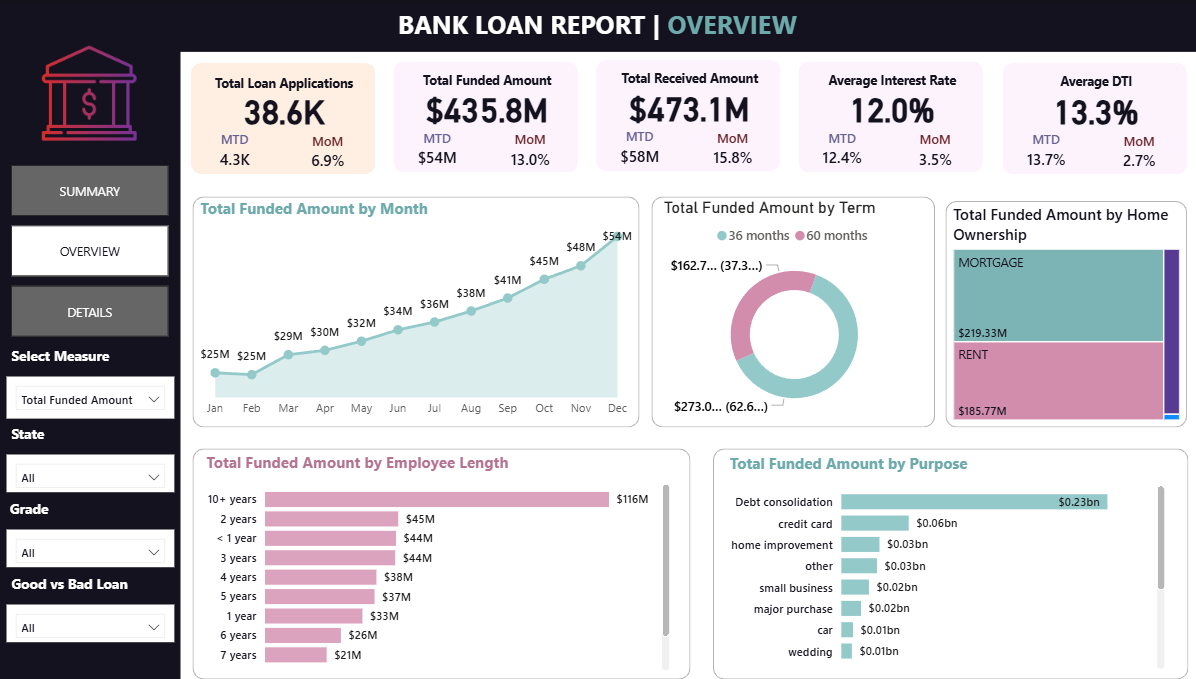

This screenshot's page, from the dashboard's own definition file:
{"tool":"powerbi","page":{"name":"OVERVIEW","canvas":[1280,720],"ordinal":1},"visuals":[{"type":"shape","box":[9.5,0,1270,55],"z":0},{"type":"shape","box":[643.1,63.6,195.6,117.7],"z":0,"group":"g3"},{"type":"shape","box":[428.1,65.2,195.6,117.7],"z":0,"group":"g2"},{"type":"shape","box":[858,65.2,195.6,117.7],"z":0,"group":"g4"},{"type":"shape","box":[213.1,66.8,195.6,117.7],"z":0,"group":"g1"},{"type":"shape","box":[1073,66.8,195.6,117.7],"z":0,"group":"g5"},{"type":"card","fields":{"Values":["Bank_loan_data.Total Amount Received"]},"box":[644.7,87.5,194.1,49.3],"z":1000,"group":"g3"},{"type":"card","fields":{"Values":["Bank_loan_data.Total Funded Amount"]},"box":[429.7,89.1,194.1,49.3],"z":1000,"group":"g2"},{"type":"card","fields":{"Values":["Bank_loan_data.Avg Interest Rate"]},"box":[859.6,89.1,194.1,49.3],"z":1000,"group":"g4"},{"type":"card","fields":{"Values":["Bank_loan_data.Total Loan Applications"]},"box":[214.7,90.7,194.1,49.3],"z":1000,"group":"g1"},{"type":"card","fields":{"Values":["Bank_loan_data.Average DTI"]},"box":[1074.6,90.7,194.1,49.3],"z":1000,"group":"g5"},{"type":"shape","box":[214.7,208.4,474,245],"z":1000},{"type":"shape","box":[9.5,44.5,192.5,676],"z":2000},{"type":"textbox","box":[644.7,68.4,195.6,33.4],"z":2000,"group":"g3"},{"type":"textbox","box":[429.7,70,195.6,33.4],"z":2000,"group":"g2"},{"type":"textbox","box":[859.6,70,195.6,33.4],"z":2000,"group":"g4"},{"type":"textbox","box":[1074.6,71.6,195.6,33.4],"z":2000,"group":"g5"},{"type":"textbox","box":[214.5,73.5,194.1,31.8],"z":2000,"group":"g1"},{"type":"textbox","box":[300.6,1.6,687.1,50.9],"z":3000},{"type":"card","title":"MTD","fields":{"Values":["Bank_loan_data.MTD Total Received Amount"]},"box":[657.4,135.2,63.6,44.5],"z":3000,"group":"g3"},{"type":"card","title":"MTD","fields":{"Values":["Bank_loan_data.MTD Funded Amount"]},"box":[442.4,136.8,63.6,44.5],"z":3000,"group":"g2"},{"type":"card","title":"MTD","fields":{"Values":["Bank_loan_data.MTD Avg Int Rate"]},"box":[872.3,136.8,63.6,44.5],"z":3000,"group":"g4"},{"type":"card","title":"MTD","fields":{"Values":["Bank_loan_data.MTD Loan Applications"]},"box":[227.4,138.4,63.6,44.5],"z":3000,"group":"g1"},{"type":"card","title":"MTD","fields":{"Values":["Bank_loan_data.MTD Avg DTI"]},"box":[1087.3,138.4,63.6,44.5],"z":3000,"group":"g5"},{"type":"group","id":"g1","title":"Group 1","box":[213.1,66.8,195.6,117.7],"z":4000},{"type":"card","title":"MoM","fields":{"Values":["Bank_loan_data.MoM Total Received Amount"]},"box":[756,136.8,63.6,44.5],"z":4000,"group":"g3"},{"type":"card","title":"MoM","fields":{"Values":["Bank_loan_data.MoM Total Funded Amount"]},"box":[541,138.4,63.6,44.5],"z":4000,"group":"g2"},{"type":"card","title":"MoM","fields":{"Values":["Bank_loan_data.MoM Avg int Rate"]},"box":[970.9,138.4,63.6,44.5],"z":4000,"group":"g4"},{"type":"card","title":"MoM","fields":{"Values":["Bank_loan_data.MoM Loan Application"]},"box":[326,140,63.6,44.5],"z":4000,"group":"g1"},{"type":"card","title":"MoM","fields":{"Values":["Bank_loan_data.MoM Avg DTI"]},"box":[1185.9,140,63.6,44.5],"z":4000,"group":"g5"},{"type":"group","id":"g2","title":"Group 1","box":[428.1,65.2,197.2,117.7],"z":5000},{"type":"group","id":"g3","title":"Group 1","box":[643.1,63.6,197.2,117.7],"z":6000},{"type":"group","id":"g4","title":"Group 1","box":[858,65.2,197.2,117.7],"z":7000},{"type":"group","id":"g5","title":"Group 1","box":[1073,66.8,197.2,117.7],"z":8000},{"type":"slicer","fields":{"Values":["Bank_loan_data.address_state"]},"box":[17.5,482,178.1,39.8],"z":9000},{"type":"textbox","box":[17,443.8,90.7,36.6],"z":10000},{"type":"slicer","fields":{"Values":["Bank_loan_data.grade"]},"box":[17.5,561.5,178.1,39.8],"z":11000},{"type":"textbox","box":[15.9,523.3,65.2,36.6],"z":12000},{"type":"slicer","fields":{"Values":["Bank_loan_data.Good vs Bad Loan"]},"box":[17.5,641,178.1,39.8],"z":13000},{"type":"shape","box":[701.5,208.4,300.6,245],"z":14000},{"type":"textbox","box":[17.5,602.8,176.6,36.6],"z":15000},{"type":"areaChart","fields":{"Y":["Bank_loan_data.Total Amount Received"],"Category":["Date Table.Month"]},"box":[217.9,210,467.6,240.2],"z":16000},{"type":"slicer","fields":{"Values":["Select Measure.Select Measure"]},"box":[17,399.2,178.1,44.5],"z":17000},{"type":"textbox","box":[17,361.1,178.1,36.6],"z":18000},{"type":"shape","box":[214.7,475.6,528.1,245],"z":19000},{"type":"shape","box":[1013.2,213.1,256.1,240.2],"z":20000},{"type":"donutChart","fields":{"Y":["Bank_loan_data.Total Amount Received"],"Category":["Bank_loan_data.term"]},"box":[709.4,210,286.3,240.2],"z":21000},{"type":"barChart","fields":{"Y":["Bank_loan_data.Total Amount Received"],"Category":["Bank_loan_data.emp_length"]},"box":[224.3,478.8,501,237],"z":22000},{"type":"shape","box":[766.7,475.6,504.2,245],"z":23000},{"type":"barChart","fields":{"Y":["Bank_loan_data.Total Amount Received"],"Category":["Bank_loan_data.purpose"]},"box":[779.4,480.4,470.8,233.8],"z":24000},{"type":"treemap","fields":{"Values":["Bank_loan_data.Total Amount Received"],"Group":["Bank_loan_data.home_ownership"]},"box":[1016.4,216.3,249.7,233.8],"z":25000},{"type":"pageNavigator","box":[22.3,175,167,182.9],"z":26000},{"type":"image","box":[38.2,39.8,133.6,117.7],"z":27000}]}

Visuals, with their boxes in screenshot pixels (x1, y1, x2, y2), scaled from the page's 1280x720 canvas onto the 1196x679 screenshot:
shape: Rect(9, 0, 1195, 52)
shape: Rect(601, 60, 784, 171)
shape: Rect(400, 61, 583, 172)
shape: Rect(802, 61, 984, 172)
shape: Rect(199, 63, 382, 174)
shape: Rect(1003, 63, 1185, 174)
card - Bank_loan_data.Total Amount Received: Rect(602, 83, 784, 129)
card - Bank_loan_data.Total Funded Amount: Rect(402, 84, 583, 131)
card - Bank_loan_data.Avg Interest Rate: Rect(803, 84, 985, 131)
card - Bank_loan_data.Total Loan Applications: Rect(201, 86, 382, 132)
card - Bank_loan_data.Average DTI: Rect(1004, 86, 1185, 132)
shape: Rect(201, 197, 644, 428)
shape: Rect(9, 42, 189, 678)
textbox: Rect(602, 65, 785, 96)
textbox: Rect(402, 66, 584, 98)
textbox: Rect(803, 66, 986, 98)
textbox: Rect(1004, 68, 1187, 99)
textbox: Rect(200, 69, 382, 99)
textbox: Rect(281, 2, 923, 50)
"MTD" card: Rect(614, 128, 674, 169)
"MTD" card: Rect(413, 129, 473, 171)
"MTD" card: Rect(815, 129, 874, 171)
"MTD" card: Rect(212, 131, 272, 172)
"MTD" card: Rect(1016, 131, 1075, 172)
"Group 1" group: Rect(199, 63, 382, 174)
"MoM" card: Rect(706, 129, 766, 171)
"MoM" card: Rect(505, 131, 565, 172)
"MoM" card: Rect(907, 131, 967, 172)
"MoM" card: Rect(305, 132, 364, 174)
"MoM" card: Rect(1108, 132, 1168, 174)
"Group 1" group: Rect(400, 61, 584, 172)
"Group 1" group: Rect(601, 60, 785, 171)
"Group 1" group: Rect(802, 61, 986, 172)
"Group 1" group: Rect(1003, 63, 1187, 174)
slicer - Bank_loan_data.address_state: Rect(16, 455, 183, 492)
textbox: Rect(16, 419, 101, 453)
slicer - Bank_loan_data.grade: Rect(16, 530, 183, 567)
textbox: Rect(15, 494, 76, 528)
slicer - Bank_loan_data.Good vs Bad Loan: Rect(16, 604, 183, 642)
shape: Rect(655, 197, 936, 428)
textbox: Rect(16, 568, 181, 603)
areaChart - Bank_loan_data.Total Amount Received x Date Table.Month: Rect(204, 198, 641, 425)
slicer - Select Measure.Select Measure: Rect(16, 376, 182, 418)
textbox: Rect(16, 341, 182, 375)
shape: Rect(201, 449, 694, 678)
shape: Rect(947, 201, 1186, 427)
donutChart - Bank_loan_data.Total Amount Received x Bank_loan_data.term: Rect(663, 198, 930, 425)
barChart - Bank_loan_data.Total Amount Received x Bank_loan_data.emp_length: Rect(210, 452, 678, 675)
shape: Rect(716, 449, 1187, 678)
barChart - Bank_loan_data.Total Amount Received x Bank_loan_data.purpose: Rect(728, 453, 1168, 674)
treemap - Bank_loan_data.Total Amount Received x Bank_loan_data.home_ownership: Rect(950, 204, 1183, 424)
pageNavigator: Rect(21, 165, 177, 338)
image: Rect(36, 38, 161, 149)
